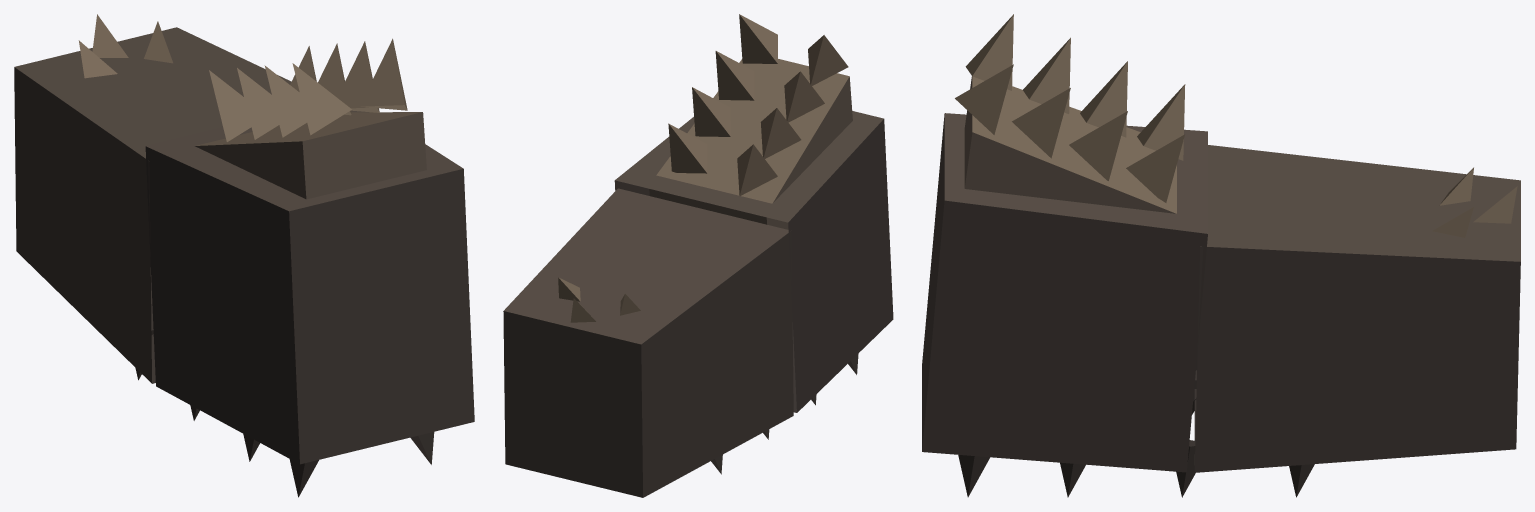
Rendered from moose_torso.obj.
3 views of the same model, side by side, from view 1: azimuth 30°, elevation 25°; view 2: azimuth 150°, elevation 25°; view 3: azimuth 270°, elevation 25° (orthographic). The views are drawn at different scales.
Parts seen in each view (by area): view 1: moose_torso; view 2: moose_torso; view 3: moose_torso.
Part boxes in pixels (<box>): moose_torso: <box>14,14,474,497</box>; moose_torso: <box>503,14,893,497</box>; moose_torso: <box>922,14,1520,497</box>.
Bounding box in the file's own units: 3.4 × 6.58 × 8.39.
